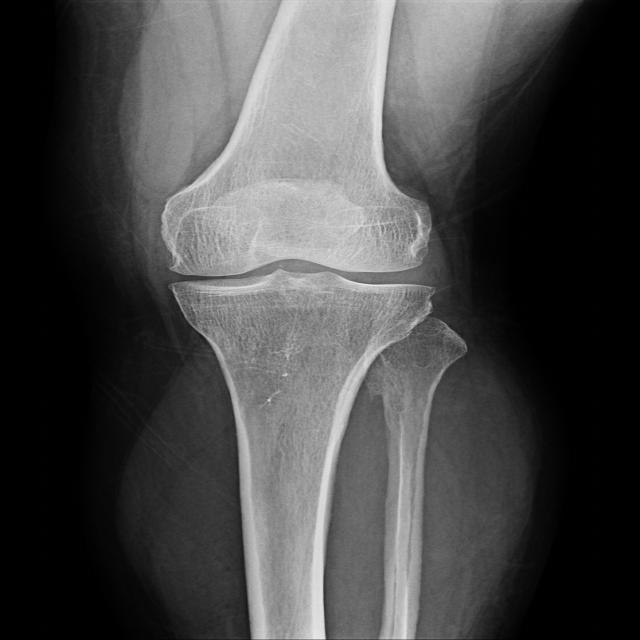osteo: (167, 185, 449, 339)
